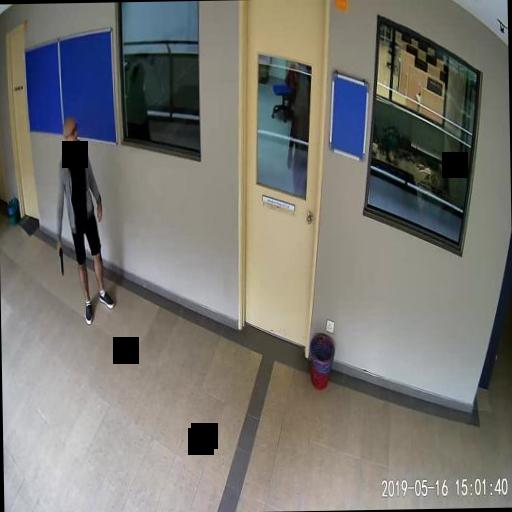Handgun: (56, 242, 62, 274)
